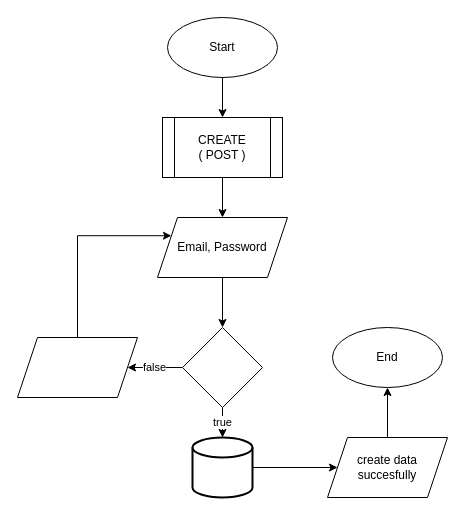
This 465x516 diagram has some shape labels left out. Each missing label, with the box of its shape:
db: (191, 436, 253, 498)
email already exist: (16, 336, 138, 398)
email uniqe: (182, 326, 262, 408)
